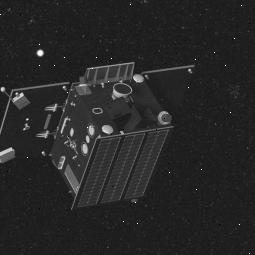proba_2: (0, 64, 202, 204)
